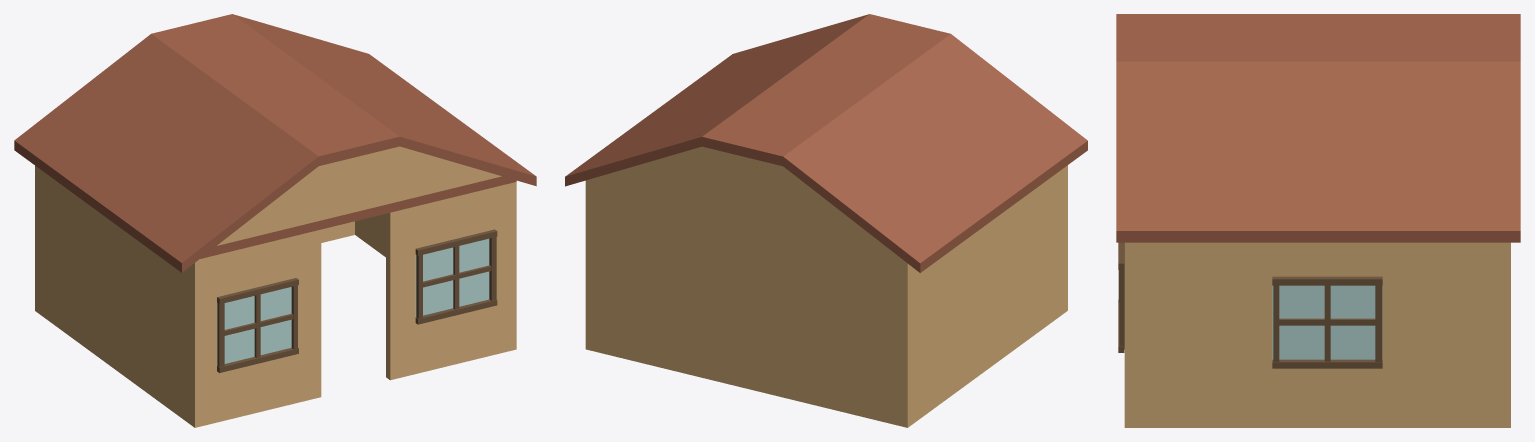
Rendered from House_06.fbx.
3 renders of one model, left to right at view 1: azimuth 30°, elevation 25°; view 2: azimuth 150°, elevation 25°; view 3: azimuth 270°, elevation 25°, orthographic. The views are drawn at different scales.
Visible parts, largest first — view 1: House; view 2: House; view 3: House.
Boxes of the visible parts, bbox=[...] form: House: bbox=[14, 14, 536, 427]; House: bbox=[565, 14, 1087, 427]; House: bbox=[1116, 14, 1520, 427].
Bounding box in the file's own units: 421 × 277 × 344.
